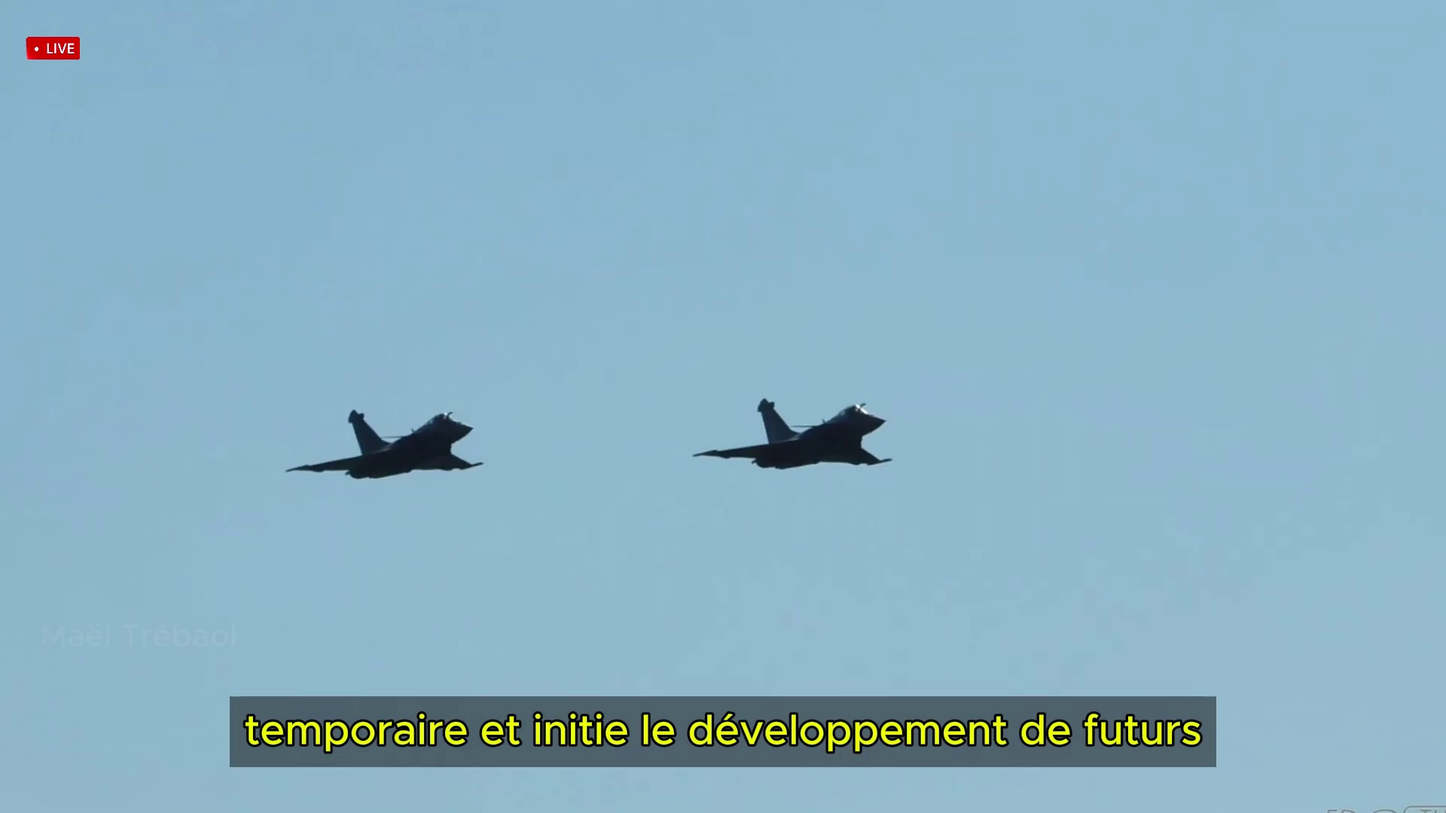Rafale: (691, 395, 893, 471), (285, 407, 484, 480)
